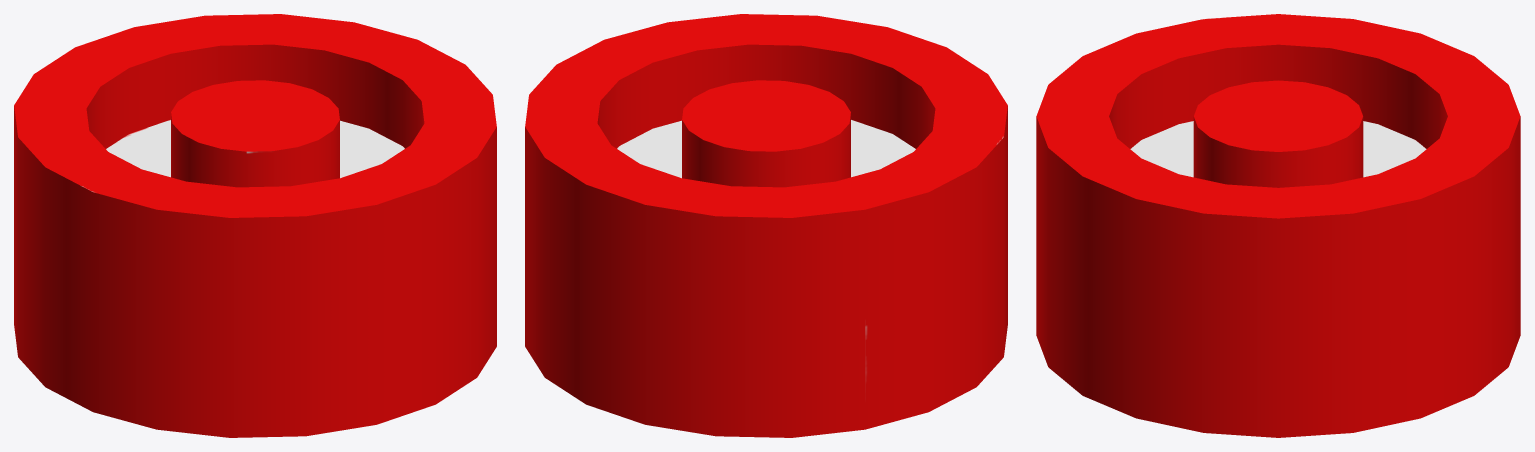
File: Target.fbx
3 views of the same model, side by side, from view 1: azimuth 30°, elevation 25°; view 2: azimuth 150°, elevation 25°; view 3: azimuth 270°, elevation 25° (orthographic).
Parts seen in each view (by area): view 1: Cylinder; view 2: Cylinder; view 3: Cylinder.
Boxes of the visible parts, <box> form: Cylinder: <box>14,14,496,437</box>; Cylinder: <box>525,14,1007,437</box>; Cylinder: <box>1036,14,1520,437</box>.
Size of the model in its own units: 200 by 100 by 200.
